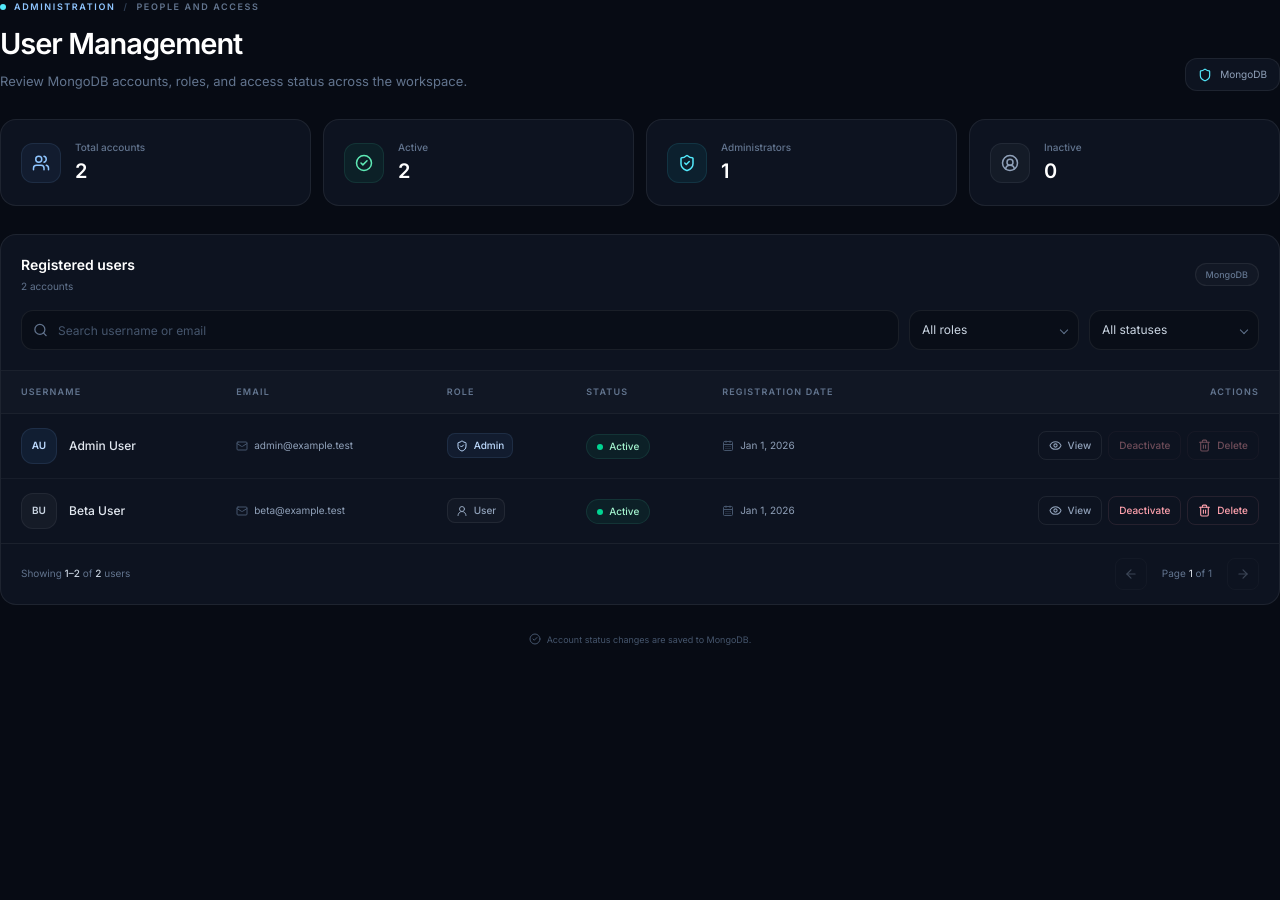
Test: admin and shared user pages › keeps an account when deletion fails and shows the backend error
This screenshot has width=1280, height=900.
Expected: the text "Beta User" is shown, left=69, top=502, right=125, bottom=518
Click the button with aria-label "Delete Beta User": x=1223, y=510 left=1187, top=496, right=1259, bottom=525
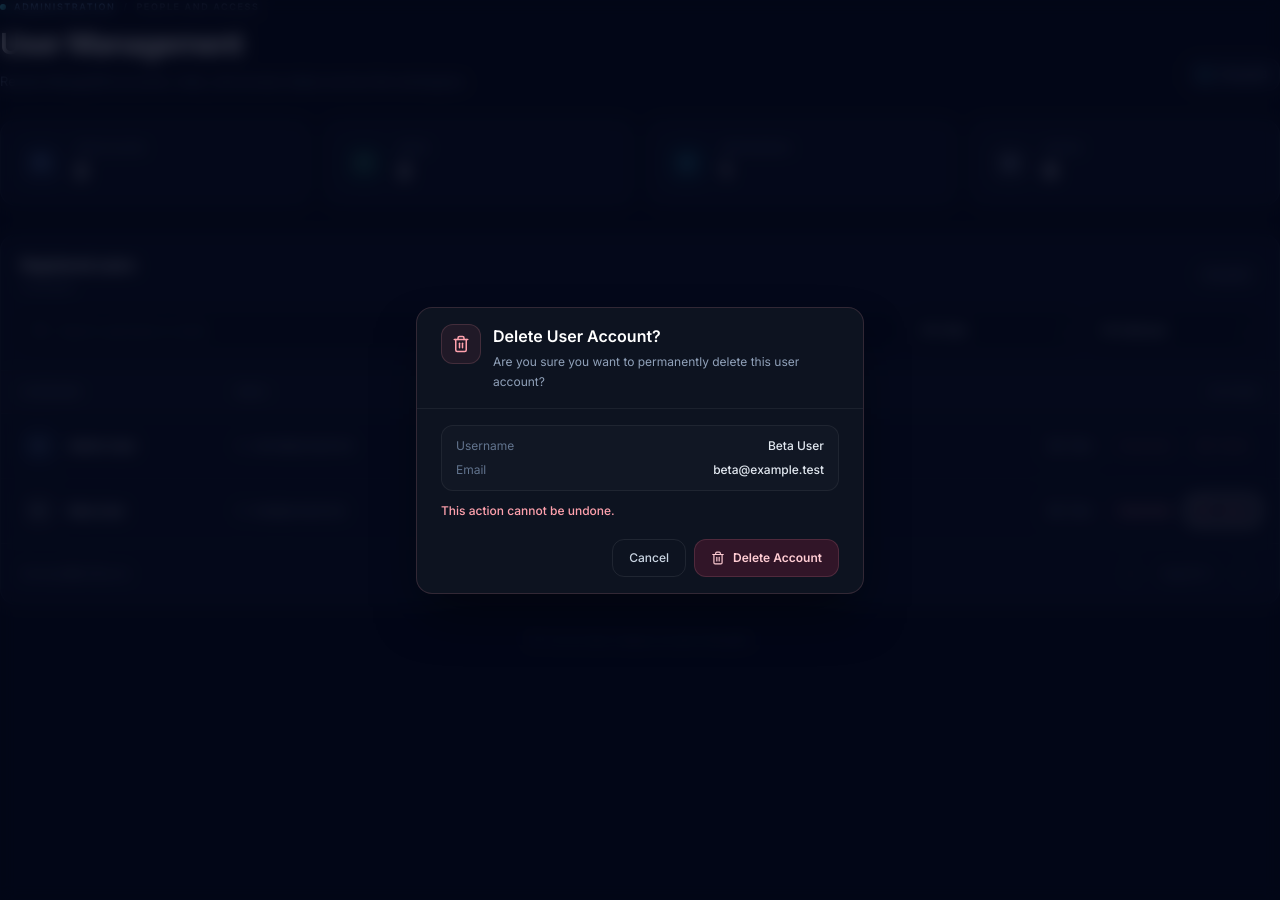
Click the button "Delete Account": x=766, y=558 left=694, top=538, right=839, bottom=576
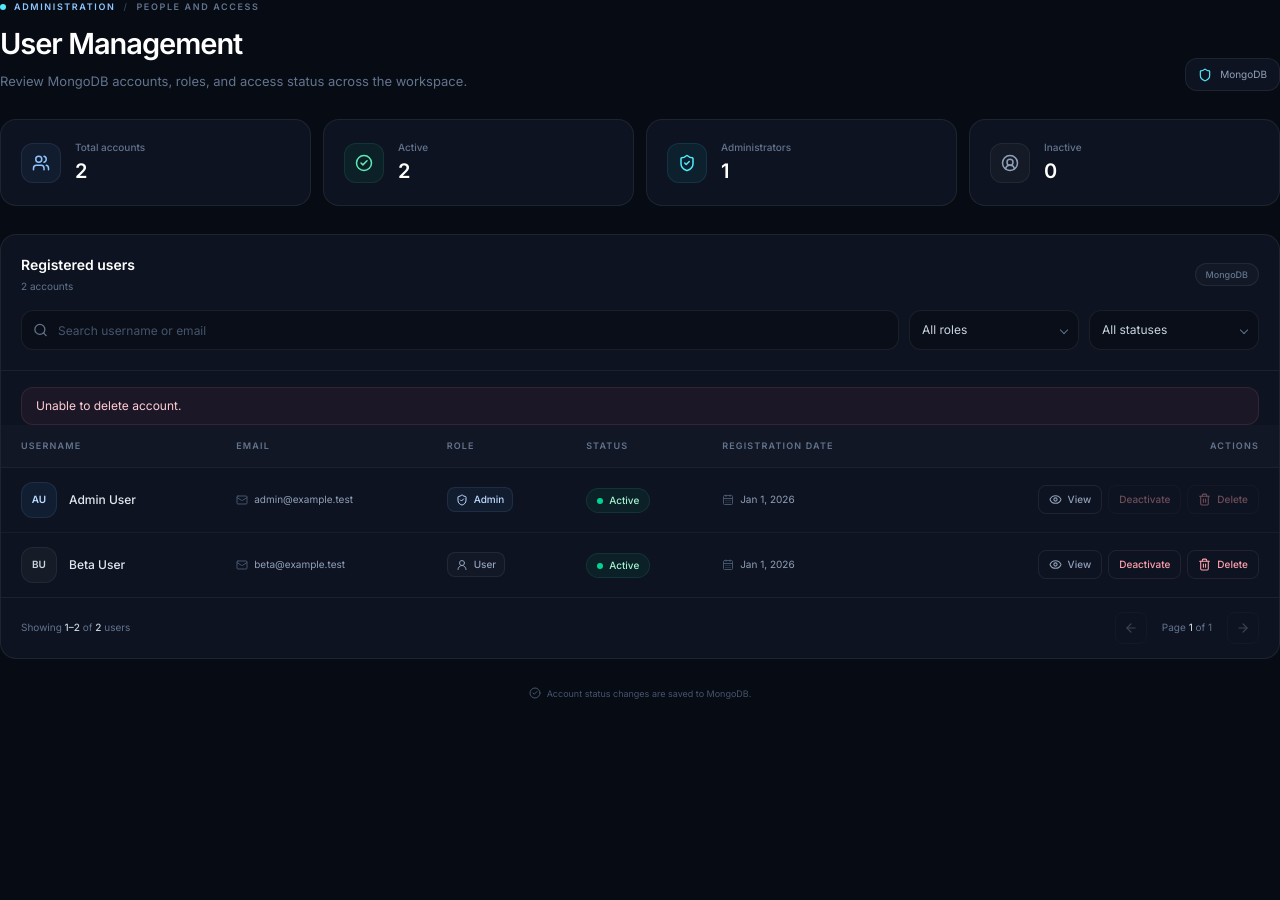
Expected: the text "Beta User" is shown, left=69, top=556, right=125, bottom=572
Expected: the message reads "Unable to delete account.", left=36, top=398, right=181, bottom=413
